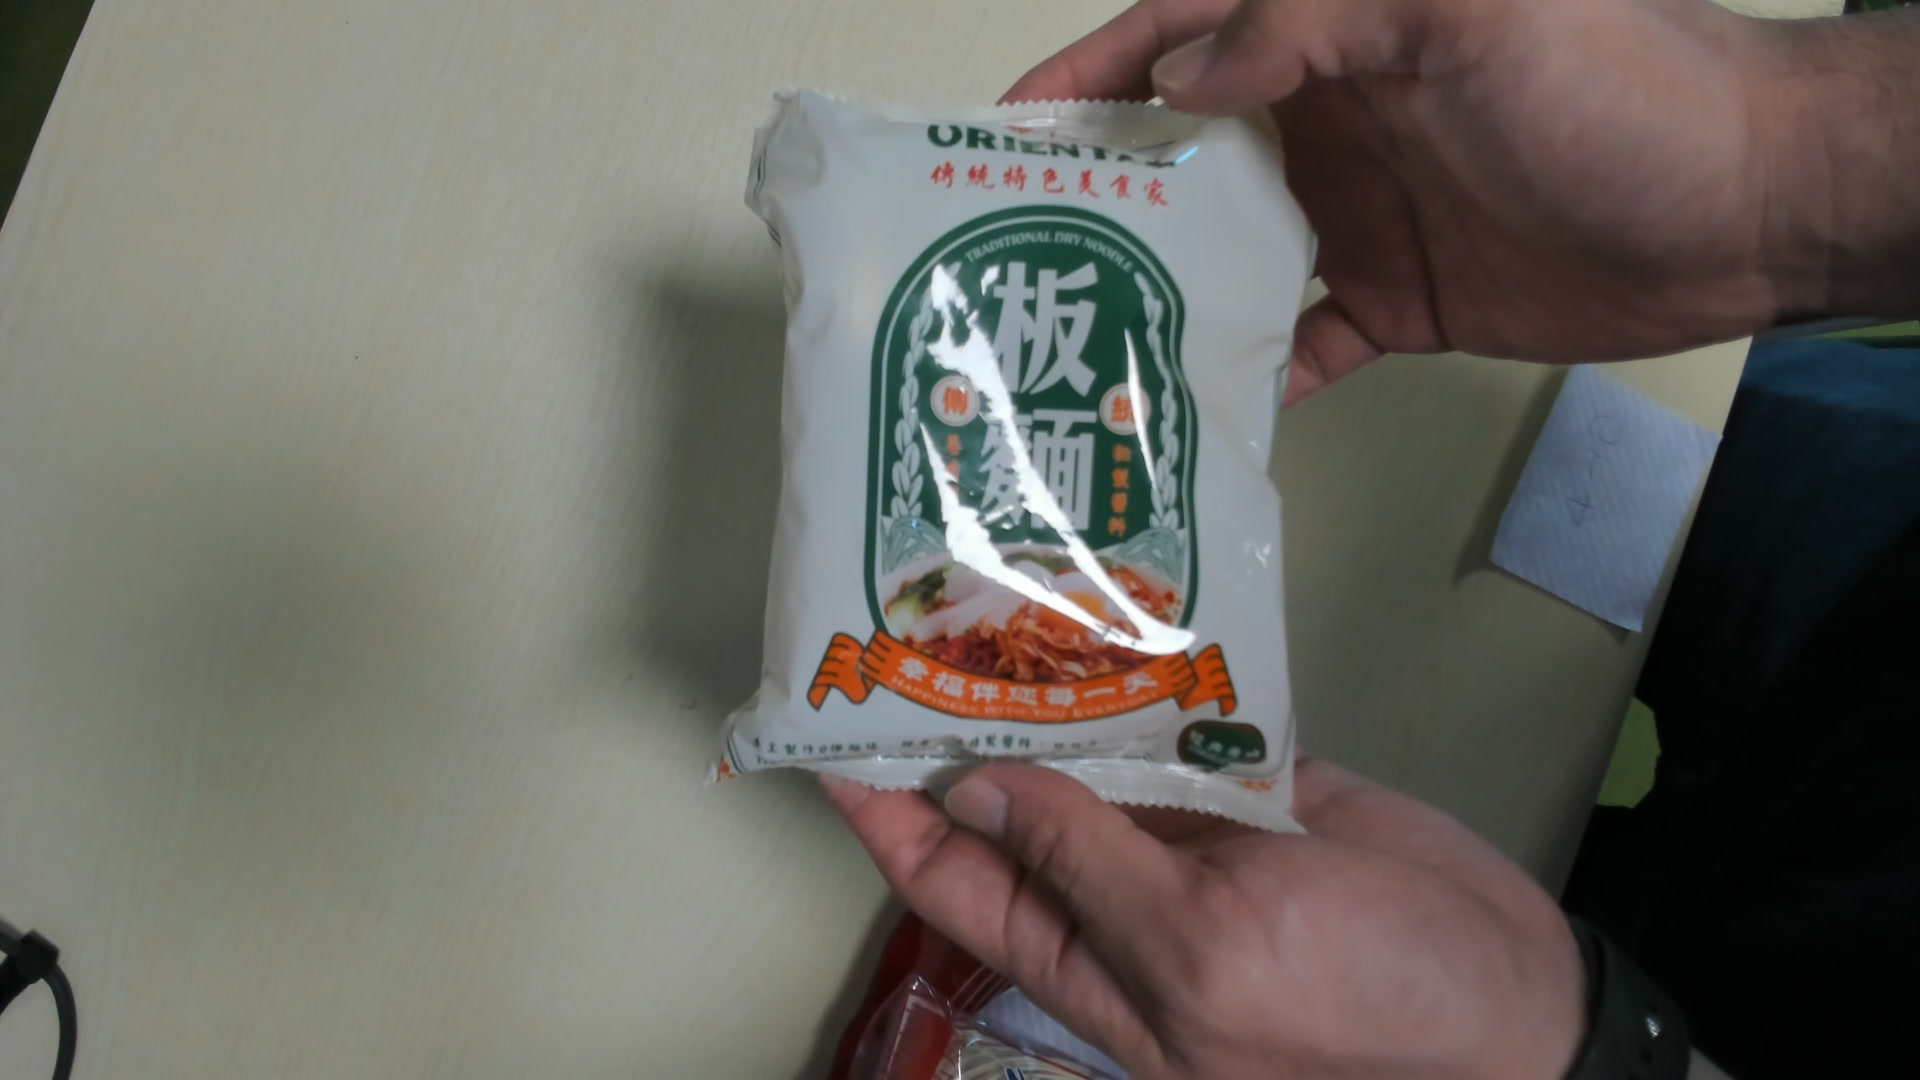BeeHoonVermicelli_100-199g_NonHalal_NonHealthy: (760, 95, 1298, 829)
